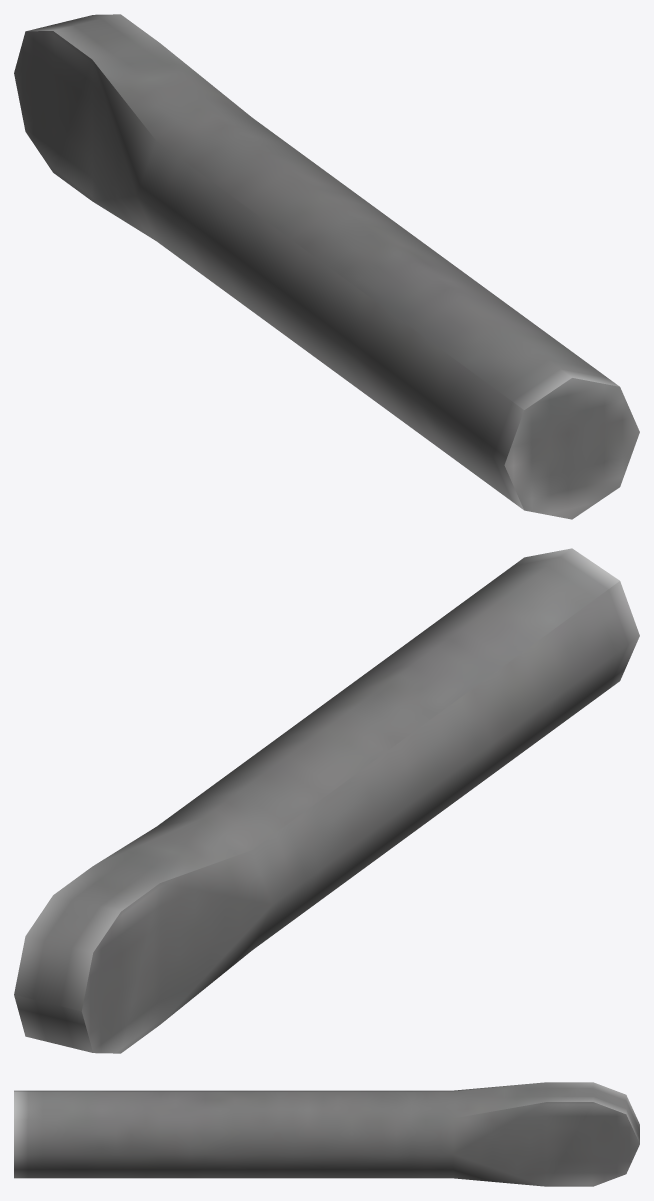
The picture shows the model from 3 angles, top to bottom: view 1: azimuth 30°, elevation 25°; view 2: azimuth 150°, elevation 25°; view 3: azimuth 270°, elevation 25°; orthographic projection. The views are drawn at different scales.
Visible parts, largest first — view 1: small_piston; view 2: small_piston; view 3: small_piston.
Part boxes in pixels (box(x1,y1,x2,y2)): small_piston: box(14, 14, 639, 519); small_piston: box(14, 548, 639, 1053); small_piston: box(14, 1082, 639, 1186).
Bounding box in the file's own units: 0.025 × 0.025 × 0.1675.
1 material, 1 textured.
